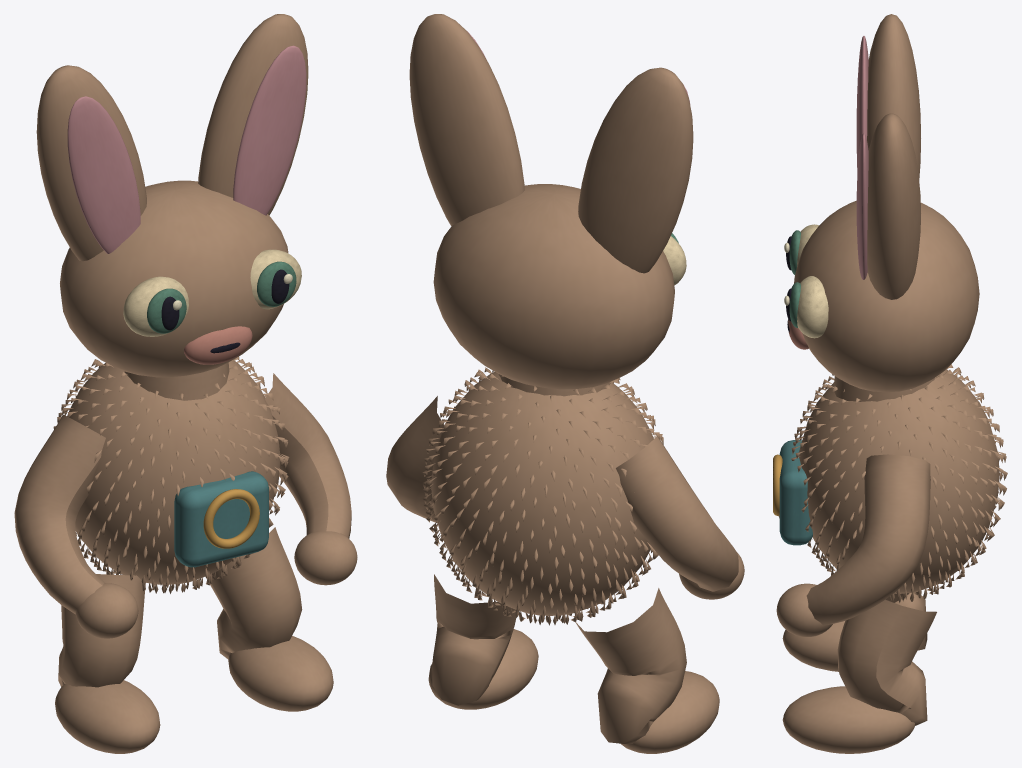
File: tacca.glb
3 views of the same model, side by side, from view 1: azimuth 30°, elevation 25°; view 2: azimuth 150°, elevation 25°; view 3: azimuth 270°, elevation 25° (orthographic). The views are drawn at different scales.
Visible parts, largest first — view 1: Cranium, Compact body, Forearm (×2), Ear lining (×2), Resonating ear (×2), Bent limb (×2), Foot (×2), Guard hairs, Seismic receiver, Hand (×2), Sclera (×2), Visible neck (+3 smaller); view 2: Compact body, Cranium, Resonating ear (×2), Bent limb (×2), Forearm (×2), Guard hairs, Foot (×2), Hand, Visible neck, Sclera; view 3: Compact body, Cranium, Resonating ear (×2), Forearm, Bent limb (×2), Foot (×2), Guard hairs, Ear lining (×2), Seismic receiver, Hand, Sclera, Visible neck (+1 smaller).
Boxes of the visible parts, x1=… form: Cranium: x1=60, y1=180, x2=288, y2=377; Compact body: x1=67, y1=360, x2=280, y2=584; Forearm (×2): x1=14, y1=373, x2=351, y2=614; Ear lining (×2): x1=67, y1=45, x2=306, y2=253; Resonating ear (×2): x1=36, y1=14, x2=308, y2=261; Bent limb (×2): x1=58, y1=527, x2=302, y2=687; Foot (×2): x1=55, y1=636, x2=333, y2=753; Guard hairs: x1=53, y1=356, x2=289, y2=593; Seismic receiver: x1=174, y1=471, x2=268, y2=567; Hand (×2): x1=75, y1=531, x2=357, y2=638; Sclera (×2): x1=123, y1=249, x2=301, y2=336; Visible neck: x1=124, y1=362, x2=229, y2=400; Compact body: x1=431, y1=371, x2=653, y2=615; Cranium: x1=433, y1=184, x2=674, y2=389; Resonating ear (×2): x1=409, y1=14, x2=693, y2=273; Bent limb (×2): x1=432, y1=574, x2=686, y2=743; Forearm (×2): x1=386, y1=396, x2=738, y2=591; Guard hairs: x1=422, y1=367, x2=663, y2=625; Foot (×2): x1=428, y1=629, x2=719, y2=753; Hand: x1=679, y1=552, x2=744, y2=599; Visible neck: x1=498, y1=374, x2=610, y2=396; Sclera: x1=663, y1=236, x2=686, y2=285; Compact body: x1=798, y1=369, x2=999, y2=593; Cranium: x1=794, y1=200, x2=979, y2=392; Resonating ear (×2): x1=867, y1=14, x2=920, y2=299; Forearm: x1=806, y1=454, x2=930, y2=625; Bent limb (×2): x1=837, y1=591, x2=936, y2=725; Foot (×2): x1=782, y1=621, x2=914, y2=753; Guard hairs: x1=791, y1=364, x2=1007, y2=602; Ear lining (×2): x1=856, y1=36, x2=868, y2=279; Seismic receiver: x1=779, y1=440, x2=812, y2=545; Hand: x1=776, y1=583, x2=832, y2=636; Sclera: x1=797, y1=276, x2=828, y2=338; Visible neck: x1=833, y1=376, x2=934, y2=401.
Bounding box in the file's own units: 0.8665 × 1.74 × 0.5786.
Materials: 9 (9 with a texture image).
